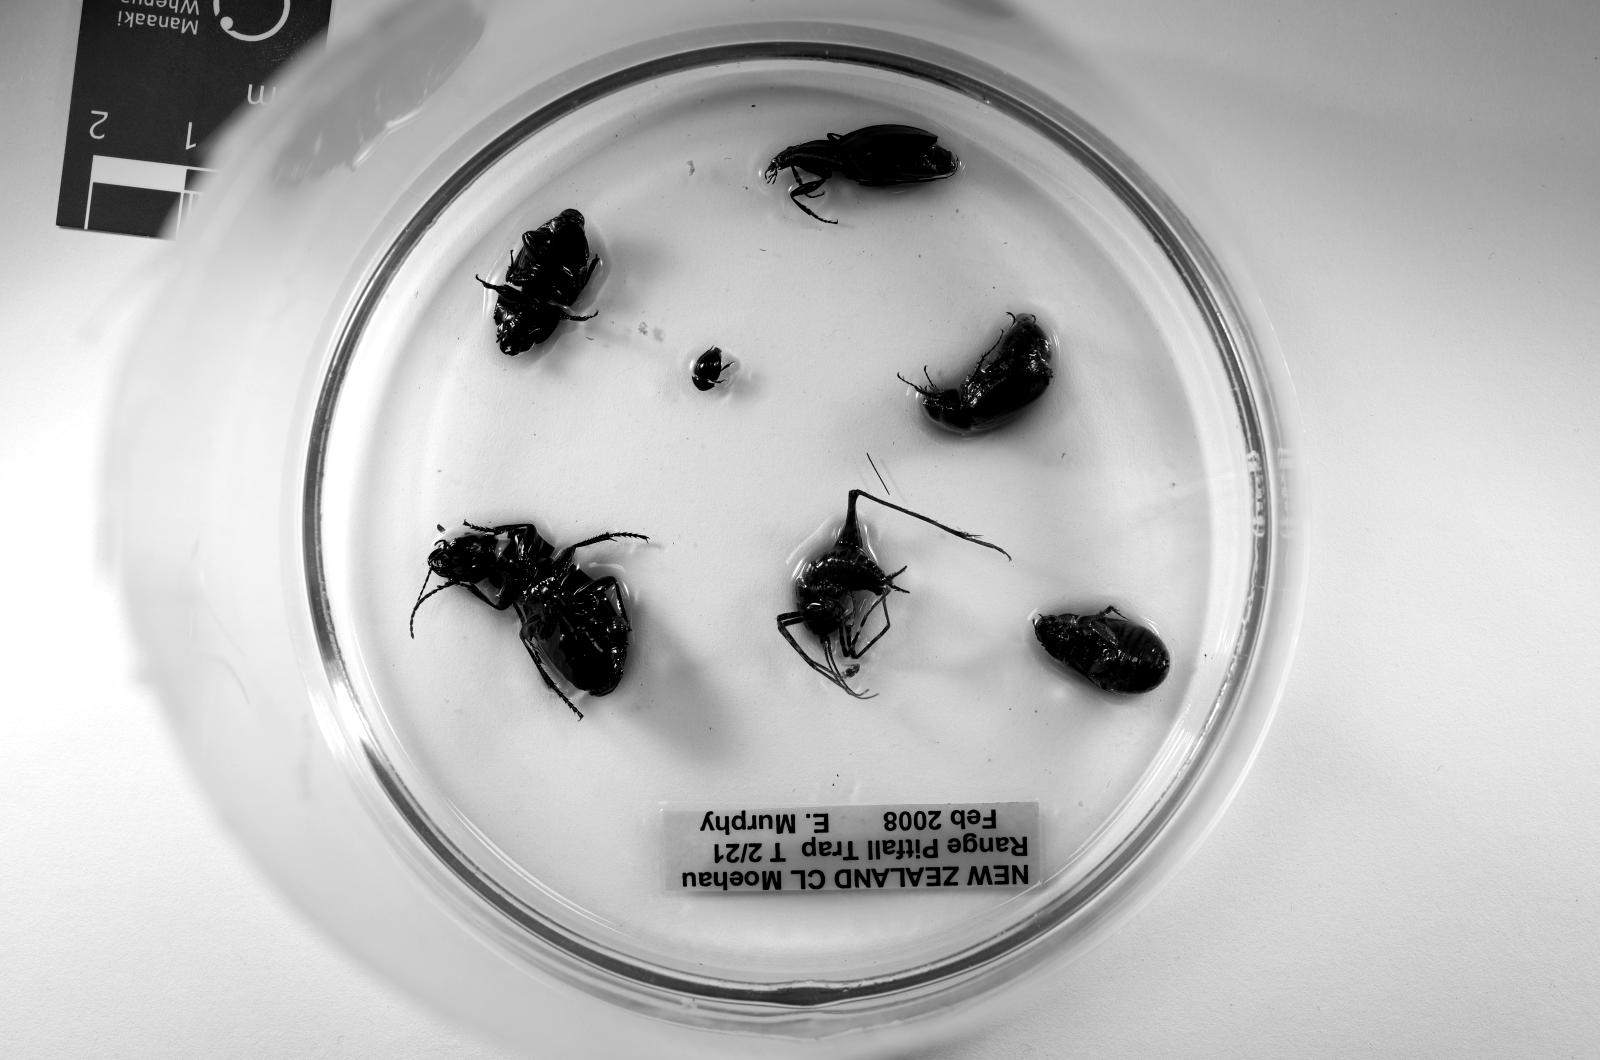carabidae: (413, 522, 647, 696), (763, 124, 959, 224)
coleoptera: (778, 491, 1010, 699), (481, 208, 600, 354), (913, 314, 1054, 432), (1035, 606, 1168, 692), (691, 348, 728, 392), (906, 382, 913, 386)
